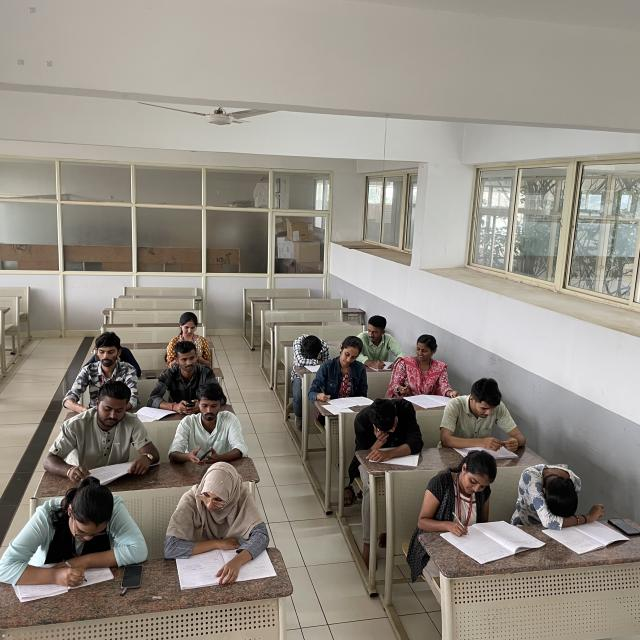Reading: (170, 459, 260, 577), (46, 382, 149, 483), (445, 380, 521, 458)
Sleeping: (517, 460, 592, 524), (292, 332, 330, 366)
Using Phone: (170, 388, 253, 463), (158, 339, 218, 411), (358, 394, 424, 450), (162, 312, 212, 364)
Writing: (6, 479, 122, 594), (418, 449, 520, 543), (390, 338, 450, 401), (317, 338, 371, 406), (358, 311, 406, 370)
